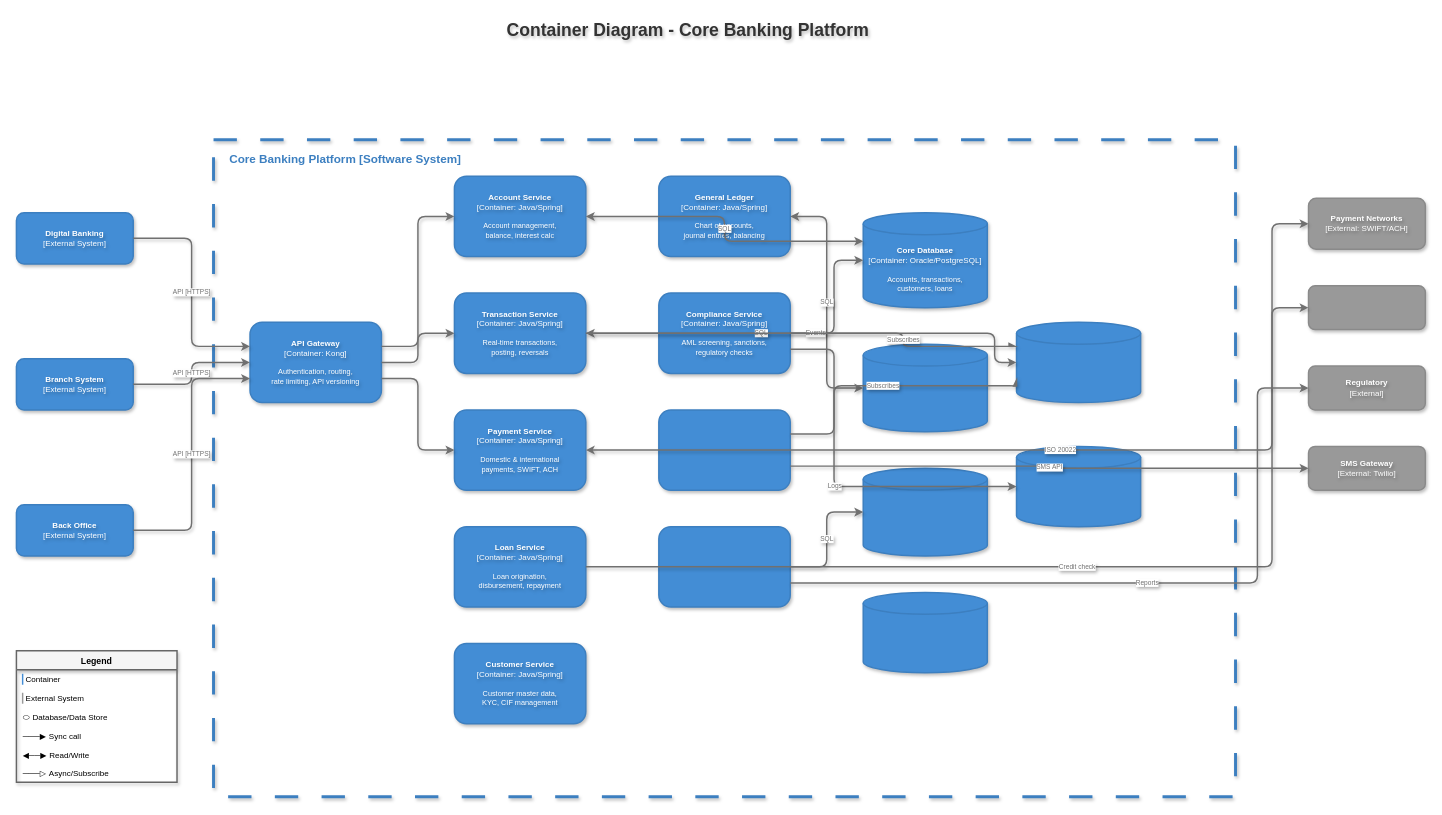
The diagram is 1442 pixels wide and 815 high, and some of its shapes have lost their labels. The centre of each missing label's shape, as x and y in pixels:
"Audit Log [Container: Elasticsearch] Immutable audit trail, compliance logging" belongs at (x=1079, y=487).
"Cache [Container: Redis] Session, rate limits, frequently accessed data" belongs at (x=925, y=633).
"Credit Bureau [External]" belongs at (x=1367, y=308).
"Data Warehouse [Container: Snowflake] Analytics, reporting, historical data" belongs at (x=925, y=512).
"GL Database [Container: Oracle] Ledger entries, chart of accounts" belongs at (x=925, y=388).
"Message Broker [Container: Kafka] Event streaming, async processing" belongs at (x=1079, y=363).
"Notification Service [Container: Node.js] Email, SMS, push notifications, alerts" belongs at (x=725, y=451).
"Reporting Service [Container: Python] Regulatory reports, analytics, dashboards" belongs at (x=725, y=567).
